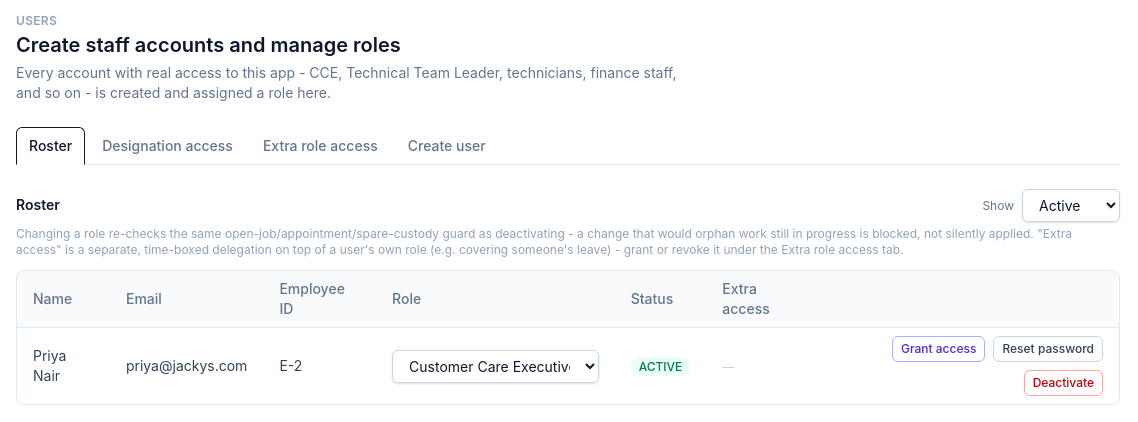
Test: UsersPage - roster › status filter › switching the filter to Inactive shows only inactive users
This screenshot has width=1138, height=422.
Expected: the text "Priya Nair" is shown, [17,328,110,404]
Select "Inactive" in the dropdown named "Filter roster by status" at (1071, 206), box [1022,189,1120,222]
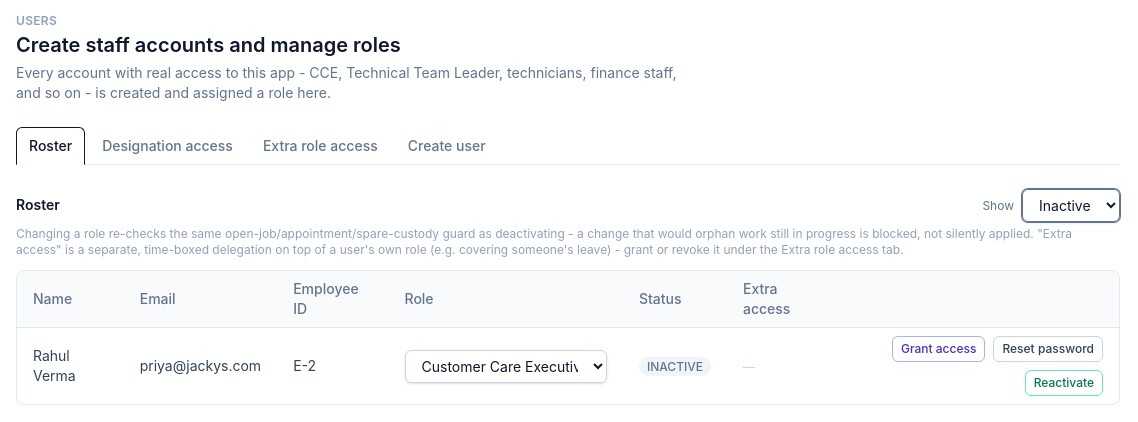
Expected: the text "Rahul Verma" is shown, [17,328,124,404]
Expected: the text "Priya Nair" is gone
